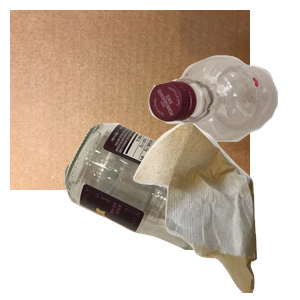cardboard: (10, 10, 250, 190)
glass: (62, 120, 300, 300)
plastic: (146, 53, 300, 187)
trash: (131, 120, 300, 300)
